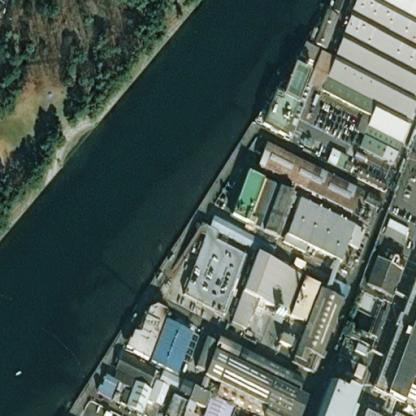ship: (11, 364, 26, 382)
